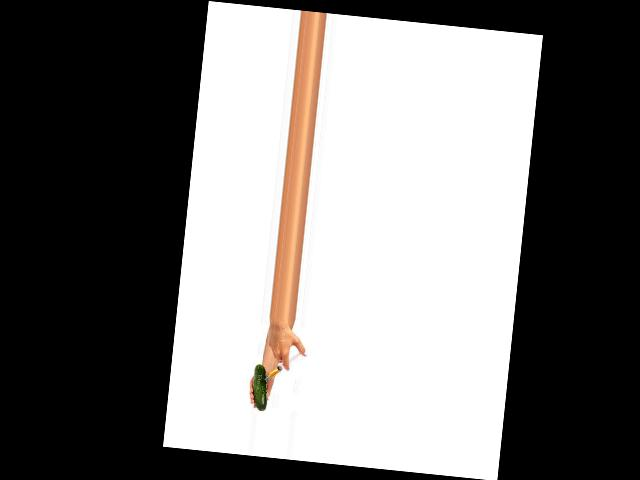cucumber: (250, 364, 270, 412)
